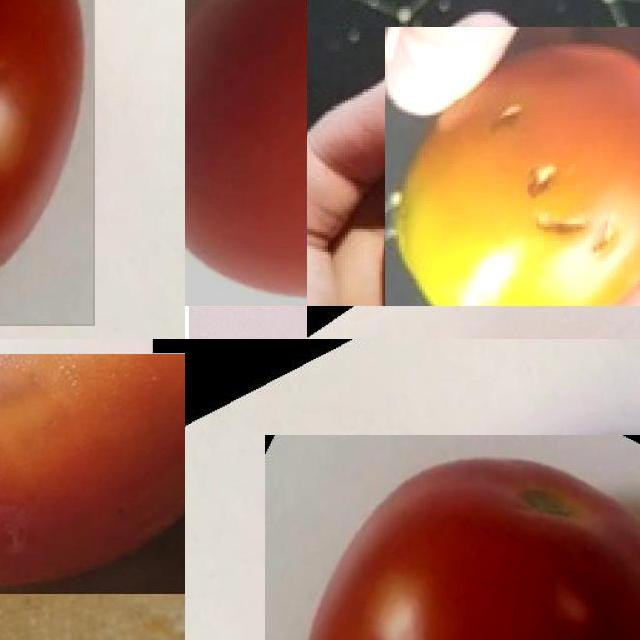Fresh Tomato: (265, 435, 640, 640), (0, 354, 185, 594), (185, 0, 307, 306), (0, 0, 95, 326)
Rotten Tomato: (385, 27, 640, 306)
